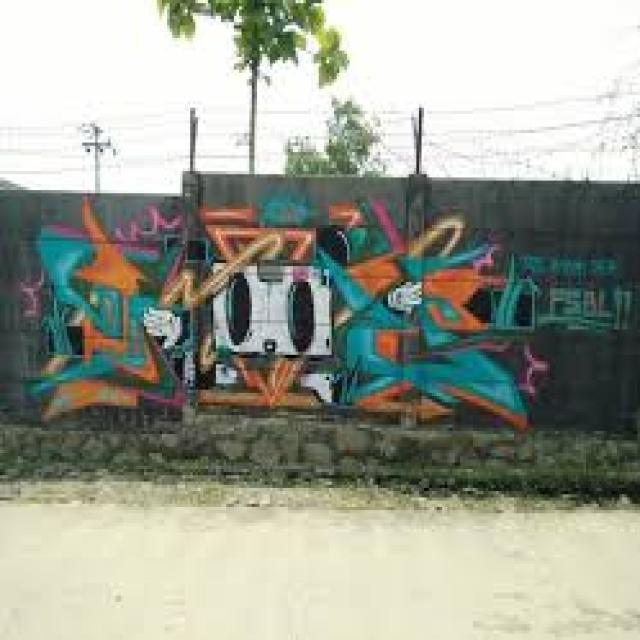-: (20, 198, 551, 426), (514, 254, 636, 337)
